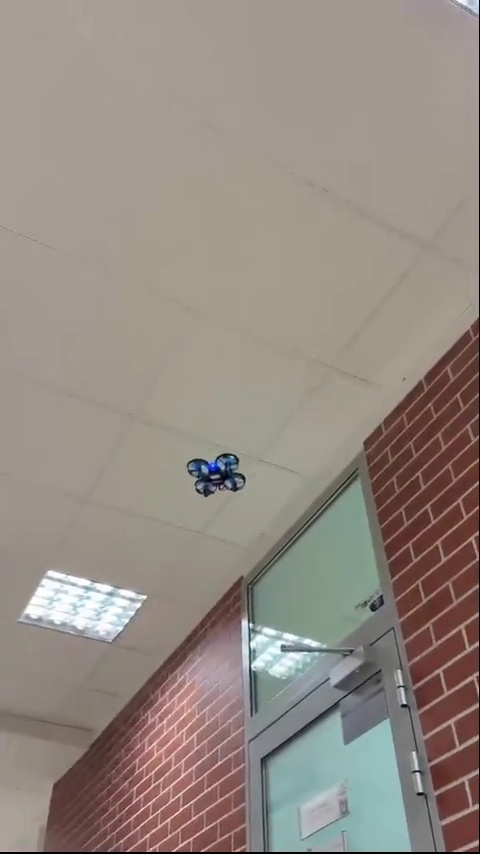drone: (188, 449, 249, 500)
